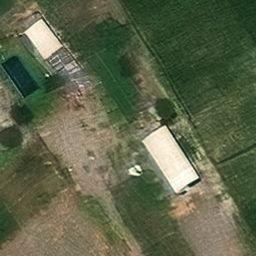manzanas: (140, 122, 199, 195), (19, 17, 82, 74)
